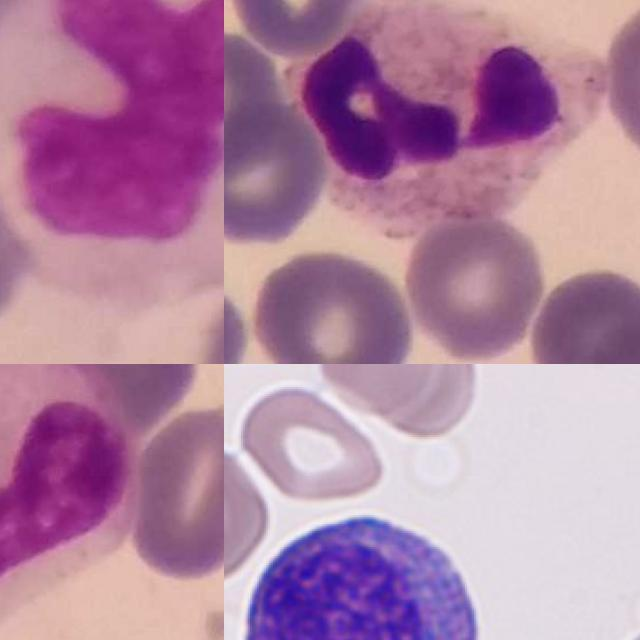Lymphocyte: (232, 501, 491, 640)
Monocyte: (0, 0, 224, 284), (0, 364, 139, 640)
Neutrophil: (297, 0, 608, 230)
RBC: (234, 384, 389, 508), (224, 435, 273, 593), (314, 364, 442, 417)
